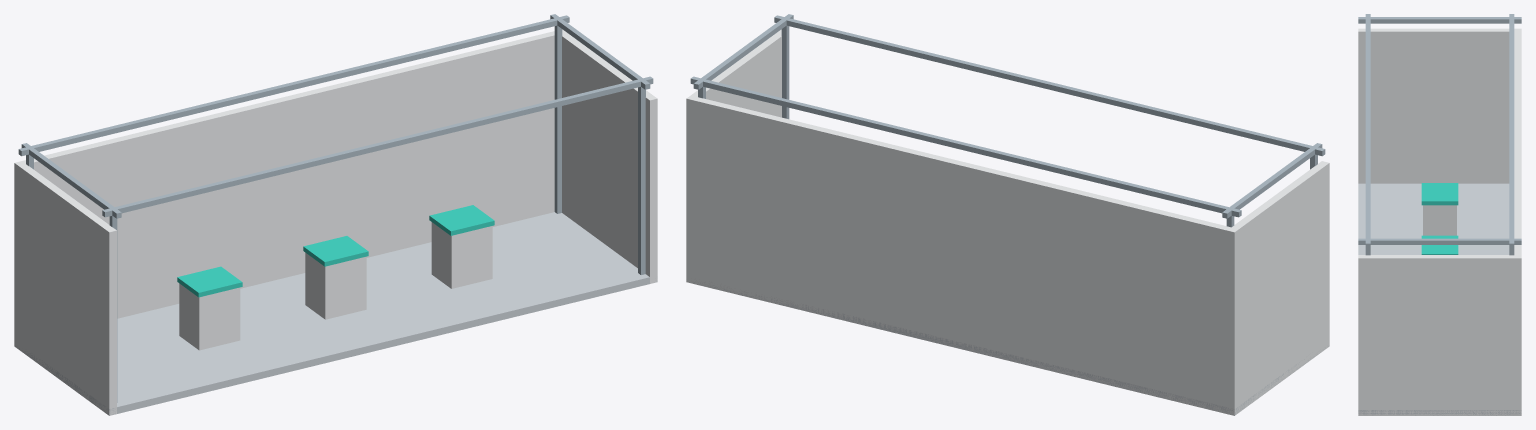
The picture shows the model from 3 angles, left to right: view 1: azimuth 30°, elevation 25°; view 2: azimuth 150°, elevation 25°; view 3: azimuth 270°, elevation 25°; orthographic projection. The views are drawn at different scales.
Visible parts, largest first — view 1: Exhibition Booth Concept; view 2: Exhibition Booth Concept; view 3: Exhibition Booth Concept.
Boxes of the visible parts, left/top/right/bottom form: Exhibition Booth Concept: left=14, top=14, right=657, bottom=415; Exhibition Booth Concept: left=686, top=14, right=1329, bottom=415; Exhibition Booth Concept: left=1358, top=14, right=1521, bottom=415.
Size of the model in its own units: 10 by 3.49 by 3.
